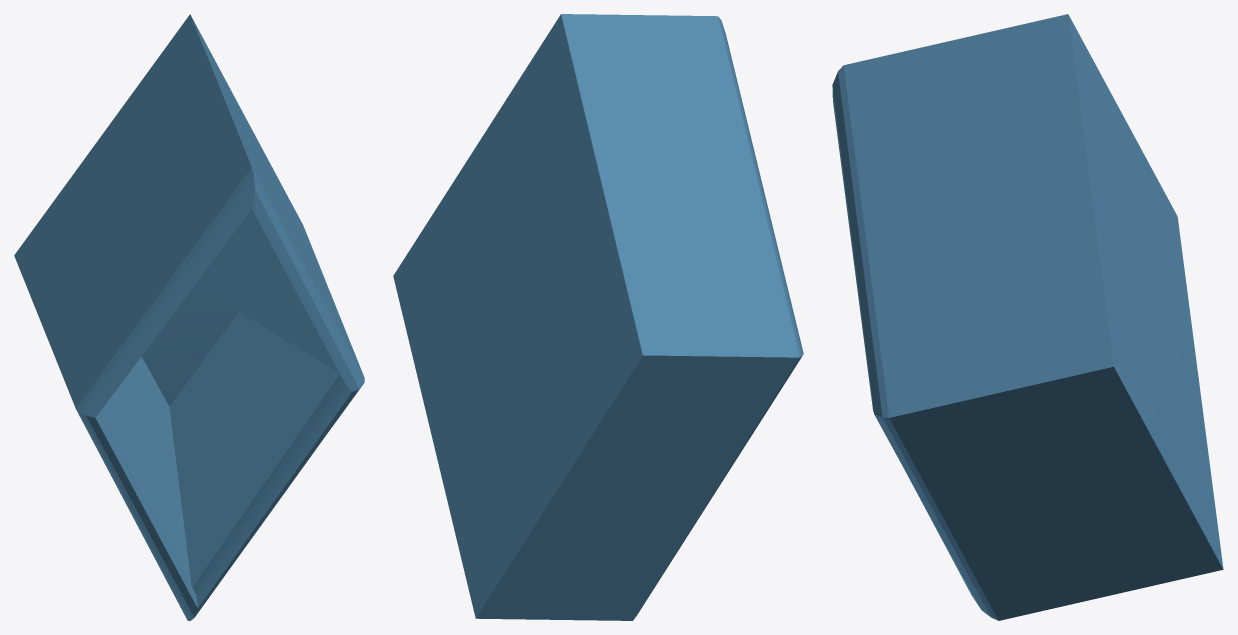
The model's file is BL1_8shapes_Kite_Classic_Metal.001 3.glb.
3 renders of one model, left to right at view 1: azimuth 30°, elevation 25°; view 2: azimuth 150°, elevation 25°; view 3: azimuth 270°, elevation 25°, orthographic. The views are drawn at different scales.
Visible parts, largest first — view 1: BL1_8shapes_Kite_Classic_Metal.001; view 2: BL1_8shapes_Kite_Classic_Metal.001; view 3: BL1_8shapes_Kite_Classic_Metal.001.
Boxes of the visible parts, <box> form: BL1_8shapes_Kite_Classic_Metal.001: <box>14,14,364,620</box>; BL1_8shapes_Kite_Classic_Metal.001: <box>393,14,803,620</box>; BL1_8shapes_Kite_Classic_Metal.001: <box>832,14,1223,620</box>.
Size of the model in its own units: 0.3665 by 0.6684 by 0.3789.
